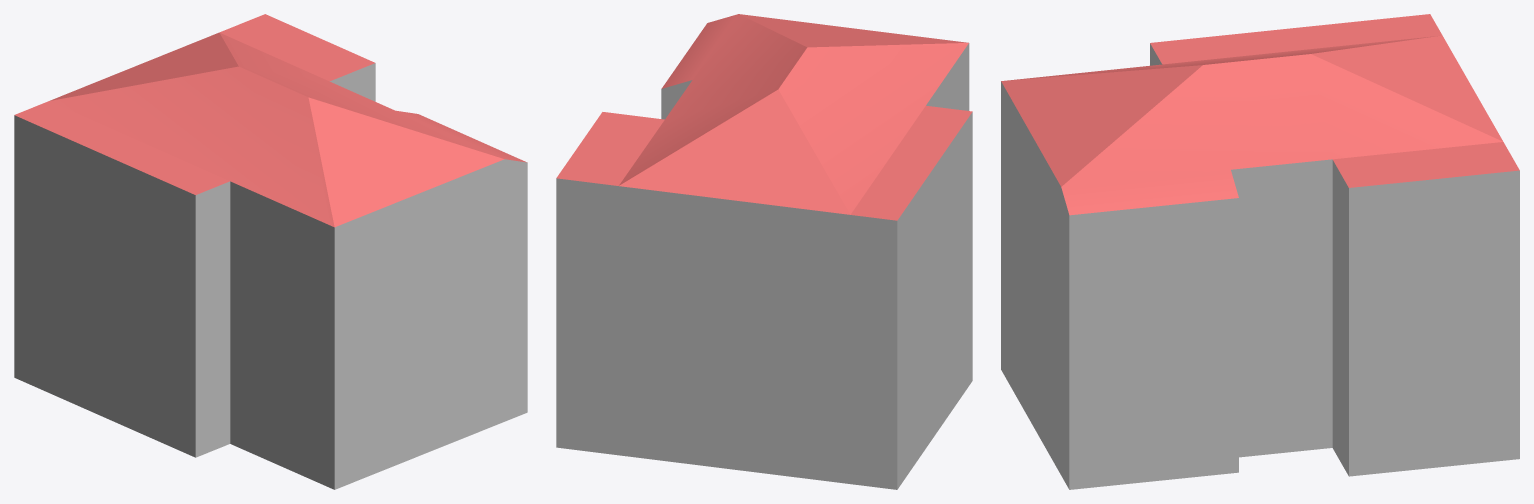
The model's file is haus2.gltf.
3 renders of one model, left to right at view 1: azimuth 30°, elevation 25°; view 2: azimuth 150°, elevation 25°; view 3: azimuth 270°, elevation 25°, orthographic. The views are drawn at different scales.
Visible parts, largest first — view 1: Z_UP; view 2: Z_UP; view 3: Z_UP.
Part boxes in pixels (bbox=[...]): Z_UP: bbox=[14, 14, 527, 489]; Z_UP: bbox=[556, 14, 972, 489]; Z_UP: bbox=[1001, 14, 1519, 489].
Bounding box in the file's own units: 12.67 × 10.72 × 14.82.
